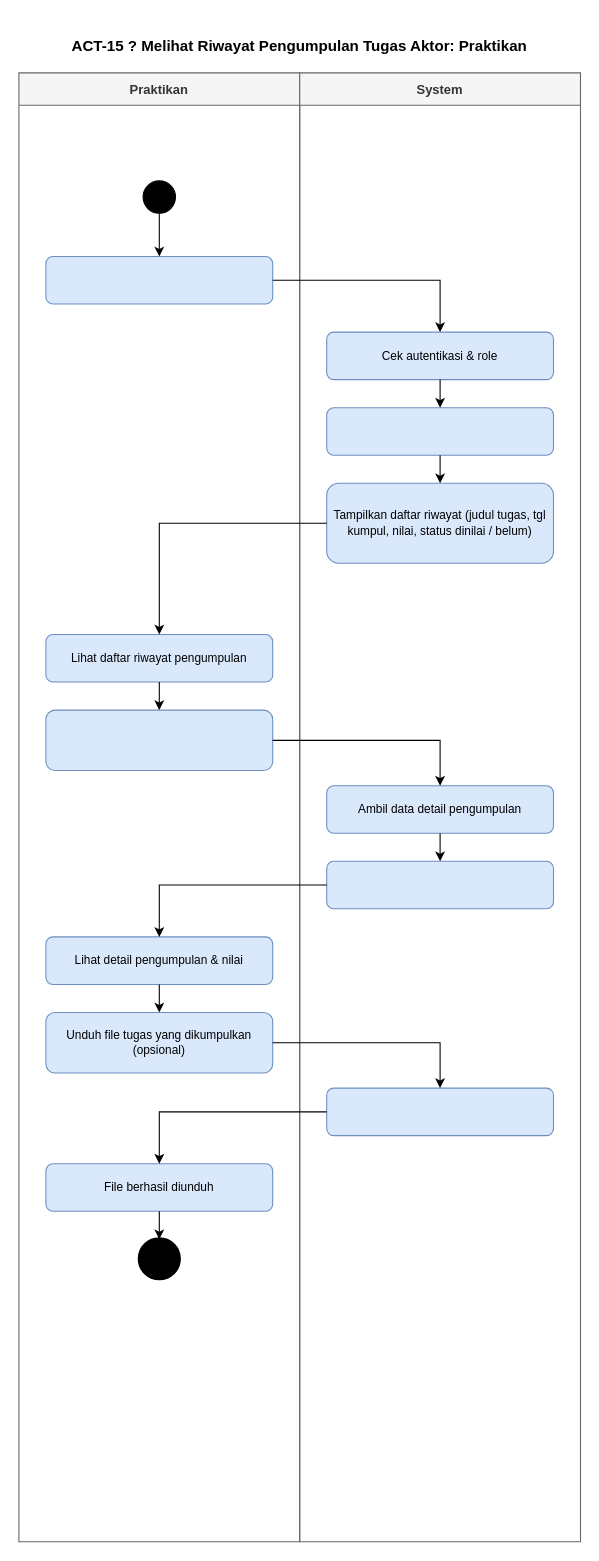
The diagram is 599 pixels wide and 1561 high, and some of its shapes have lost their labels. Here are the shapes that lost their labels. From the top down, the centre of each, then its label:
At (159,279): "Buka menu Riwayat Pengumpulan".
At (440,431): "Ambil data pengumpulan tugas".
At (159,740): "Klik pengumpulan ? lihat detail (opsional)".
At (440,884): "Tampilkan halaman detail".
At (440,1111): "Mulai unduhan file".
